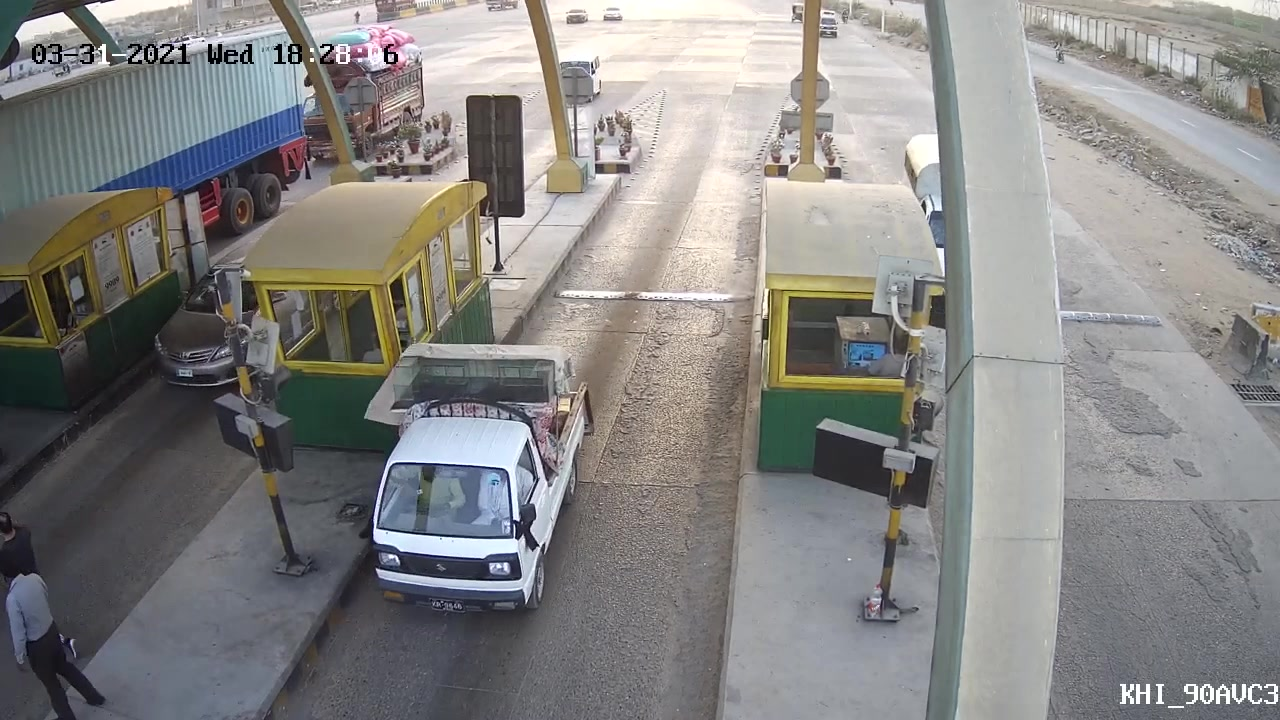F1: (363, 337, 595, 621)
